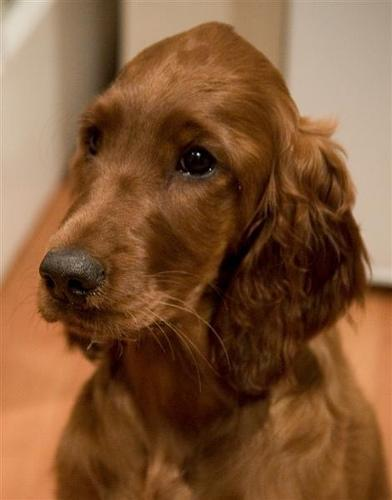Irish_setter: (1, 20, 390, 498)
